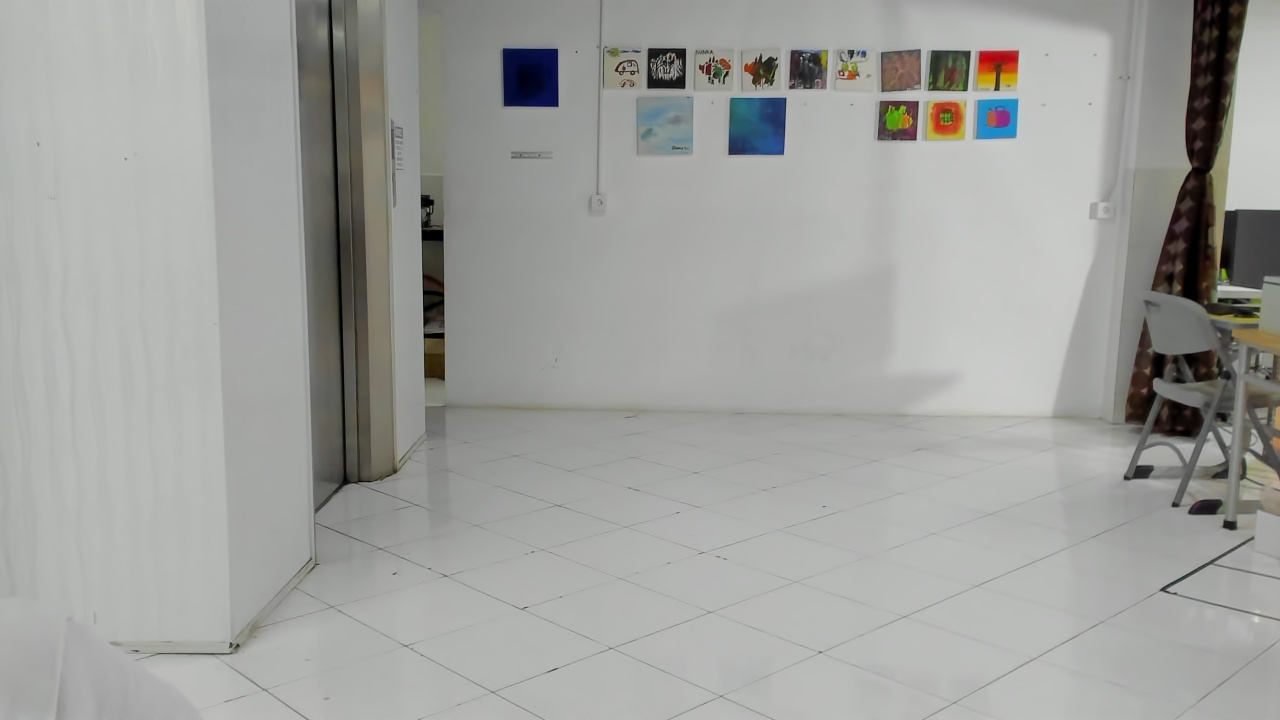bg: (20, 13, 1185, 675)
